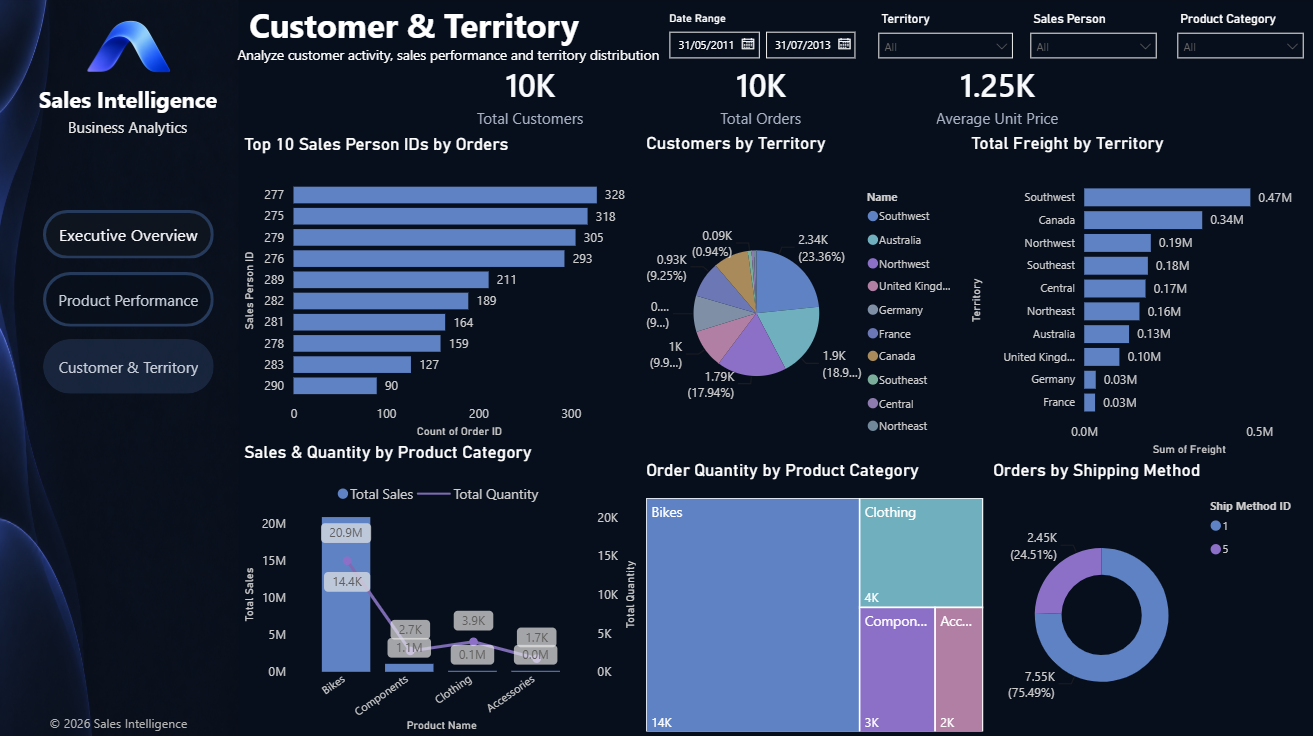

Layout of this report page (visuals, bound fields, positions):
{"tool":"powerbi","page":{"name":"Customer & Territory","canvas":[1280,720],"ordinal":2},"visuals":[{"type":"shape","box":[0,0,234.4,719.8],"z":0},{"type":"cardVisual","fields":{"Data":["Customer.Total Customers"]},"box":[409.5,48.6,216.9,95.3],"z":1000},{"type":"cardVisual","fields":{"Data":["SalesOrders.Total Orders"]},"box":[626.4,48.6,231.5,95],"z":2000},{"type":"barChart","title":"Top 10 Sales Person IDs by Orders","fields":{"Category":["SalesOrders.Sales Person ID"],"Y":["CountNonNull(SalesOrders.Order ID)"]},"box":[234.4,133.3,391,299.6],"z":3000},{"type":"pieChart","title":"Customers by Territory","fields":{"Category":["Territory.Name"],"Y":["Count(Customer.CustomerID)"]},"box":[625.4,132.3,316.5,318.5],"z":4000},{"type":"treemap","title":"Order Quantity by Product Category ","fields":{"Group":["ProductCategory.Name"],"Values":["Sum(SalesOrderDetails.OrderQty)"]},"box":[625.4,450.3,337.5,269.4],"z":5000},{"type":"lineClusteredColumnComboChart","title":"Sales & Quantity by Product Category","fields":{"Category":["ProductCategory.Name"],"Y":["SalesOrderDetails.Total Sales"],"Y2":["SalesOrderDetails.Total Quantity"]},"box":[234.4,433.3,390.7,286.9],"z":6000},{"type":"donutChart","title":"Orders by Shipping Method","fields":{"Category":["SalesOrders.Ship Method ID"],"Y":["CountNonNull(SalesOrders.Order ID)"]},"box":[962.9,450.3,317.1,269.4],"z":7000},{"type":"textbox","box":[239.3,0,340.4,57.4],"z":8000},{"type":"image","box":[0,0,234.4,719.8],"z":9000},{"type":"cardVisual","fields":{"Data":["SalesOrderDetails.Average Unit Price"]},"box":[855.9,48.6,232.5,95.3],"z":10000},{"type":"slicer","fields":{"Values":["DateTable.Date"]},"box":[640,9.7,205.7,59.4],"z":11000},{"type":"slicer","fields":{"Values":["Territory.Name"]},"box":[846.2,9.7,151.3,64.3],"z":12000},{"type":"slicer","fields":{"Values":["ProductCategory.Name"]},"box":[1137,9.7,143.4,64.3],"z":13000},{"type":"slicer","fields":{"Values":["SalesOrders.Sales Person ID"]},"box":[994,9.7,143.4,64.3],"z":14000},{"type":"barChart","title":"Total Freight by Territory","fields":{"Category":["Territory.Name"],"Y":["Sum(SalesOrders.Freight)"]},"box":[941.5,132.3,338.5,318.1],"z":15000},{"type":"actionButton","box":[43.5,206.7,166.2,47.5],"z":16000},{"type":"actionButton","box":[43.5,267.1,166.2,53.4],"z":17000},{"type":"actionButton","box":[43.5,332.4,166.2,53.4],"z":18000},{"type":"image","box":[69.2,17.8,114.7,62.3],"z":19000},{"type":"textbox","box":[31.7,80.1,188.9,39.6],"z":20000},{"type":"textbox","box":[52.4,110.8,147.4,32.6],"z":21000},{"type":"textbox","box":[35.6,691.4,162.2,27.7],"z":22000},{"type":"textbox","box":[227.6,41.8,423.1,34],"z":22001}]}

Visuals, with their boxes in screenshot pixels (x1, y1, x2, y2), scaled from the page's 1280x720 canvas onto the 1313x736 screenshot:
shape: {"left": 0, "top": 0, "right": 240, "bottom": 735}
cardVisual - Customer.Total Customers: {"left": 420, "top": 50, "right": 643, "bottom": 147}
cardVisual - SalesOrders.Total Orders: {"left": 643, "top": 50, "right": 880, "bottom": 147}
"Top 10 Sales Person IDs by Orders" barChart: {"left": 240, "top": 136, "right": 642, "bottom": 443}
"Customers by Territory" pieChart: {"left": 642, "top": 135, "right": 966, "bottom": 461}
"Order Quantity by Product Category " treemap: {"left": 642, "top": 460, "right": 988, "bottom": 735}
"Sales & Quantity by Product Category" lineClusteredColumnComboChart: {"left": 240, "top": 443, "right": 641, "bottom": 735}
"Orders by Shipping Method" donutChart: {"left": 988, "top": 460, "right": 1312, "bottom": 735}
textbox: {"left": 245, "top": 0, "right": 595, "bottom": 59}
image: {"left": 0, "top": 0, "right": 240, "bottom": 735}
cardVisual - SalesOrderDetails.Average Unit Price: {"left": 878, "top": 50, "right": 1116, "bottom": 147}
slicer - DateTable.Date: {"left": 656, "top": 10, "right": 868, "bottom": 71}
slicer - Territory.Name: {"left": 868, "top": 10, "right": 1023, "bottom": 76}
slicer - ProductCategory.Name: {"left": 1166, "top": 10, "right": 1312, "bottom": 76}
slicer - SalesOrders.Sales Person ID: {"left": 1020, "top": 10, "right": 1167, "bottom": 76}
"Total Freight by Territory" barChart: {"left": 966, "top": 135, "right": 1312, "bottom": 460}
actionButton: {"left": 45, "top": 211, "right": 215, "bottom": 260}
actionButton: {"left": 45, "top": 273, "right": 215, "bottom": 328}
actionButton: {"left": 45, "top": 340, "right": 215, "bottom": 394}
image: {"left": 71, "top": 18, "right": 189, "bottom": 82}
textbox: {"left": 33, "top": 82, "right": 226, "bottom": 122}
textbox: {"left": 54, "top": 113, "right": 205, "bottom": 147}
textbox: {"left": 37, "top": 707, "right": 203, "bottom": 735}
textbox: {"left": 233, "top": 43, "right": 667, "bottom": 77}
